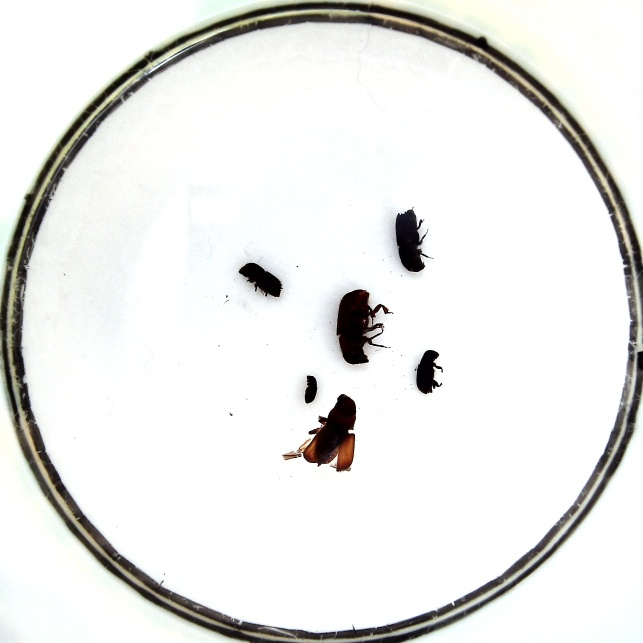armandi: (416, 348, 443, 396)
boerner: (395, 205, 431, 273)
coleoptera: (302, 374, 318, 406)
leconte: (285, 393, 356, 472), (336, 289, 392, 364)
linnaeus: (238, 263, 283, 299)
